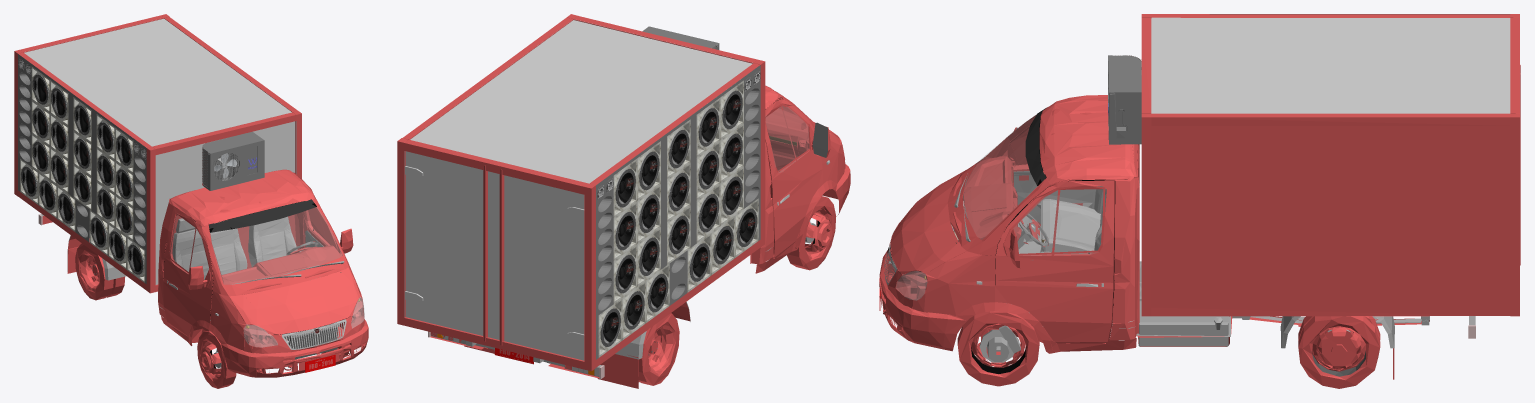
File: caminhao_roxo.glb
3 views of the same model, side by side, from view 1: azimuth 30°, elevation 25°; view 2: azimuth 150°, elevation 25°; view 3: azimuth 270°, elevation 25° (orthographic). The views are drawn at different scales.
Size of the model in its own units: 1.88 by 2.23 by 4.6.
Materials: 81 (14 with a texture image).
